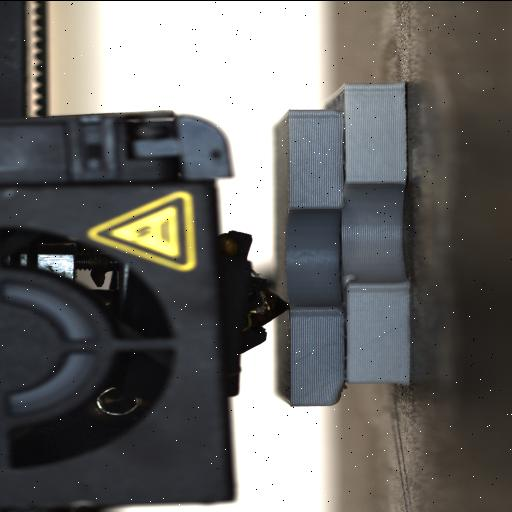layer_shift: (328, 82, 352, 406)
